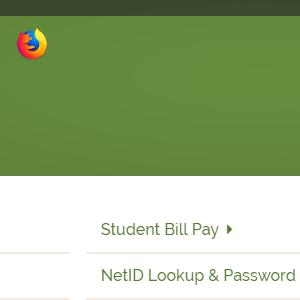firefox: (17, 27, 48, 61)
